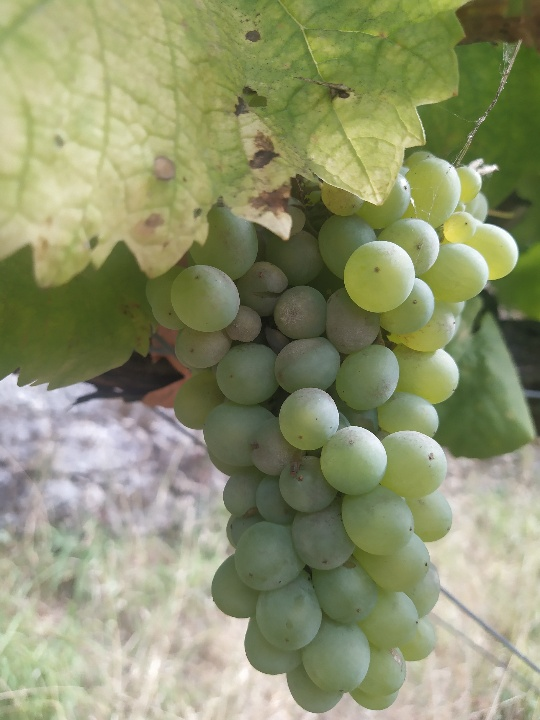grape: (146, 153, 522, 713)
